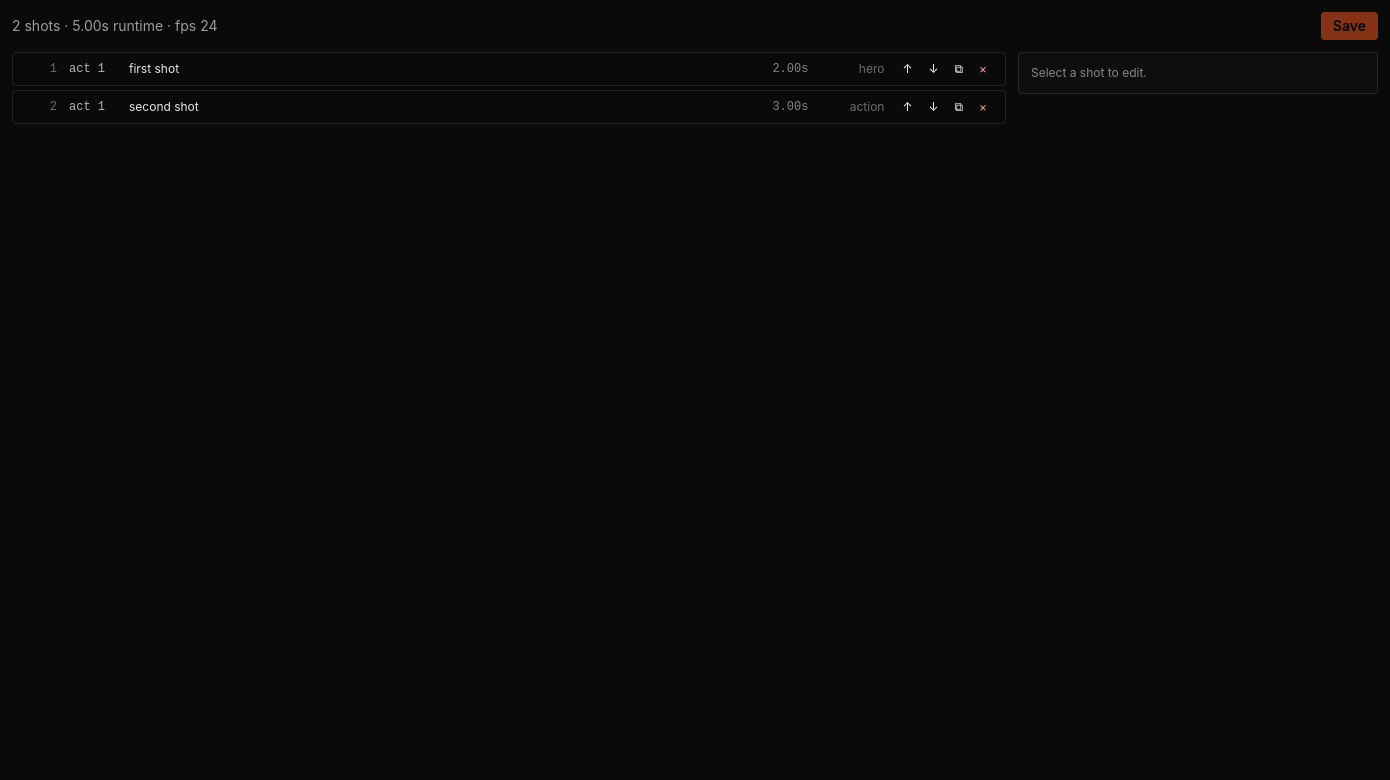
Test case: ShotListEditor › saves via PUT and clears the unsaved-edits badge
Click the text "first shot" at [154, 68], box [129, 61, 179, 76]
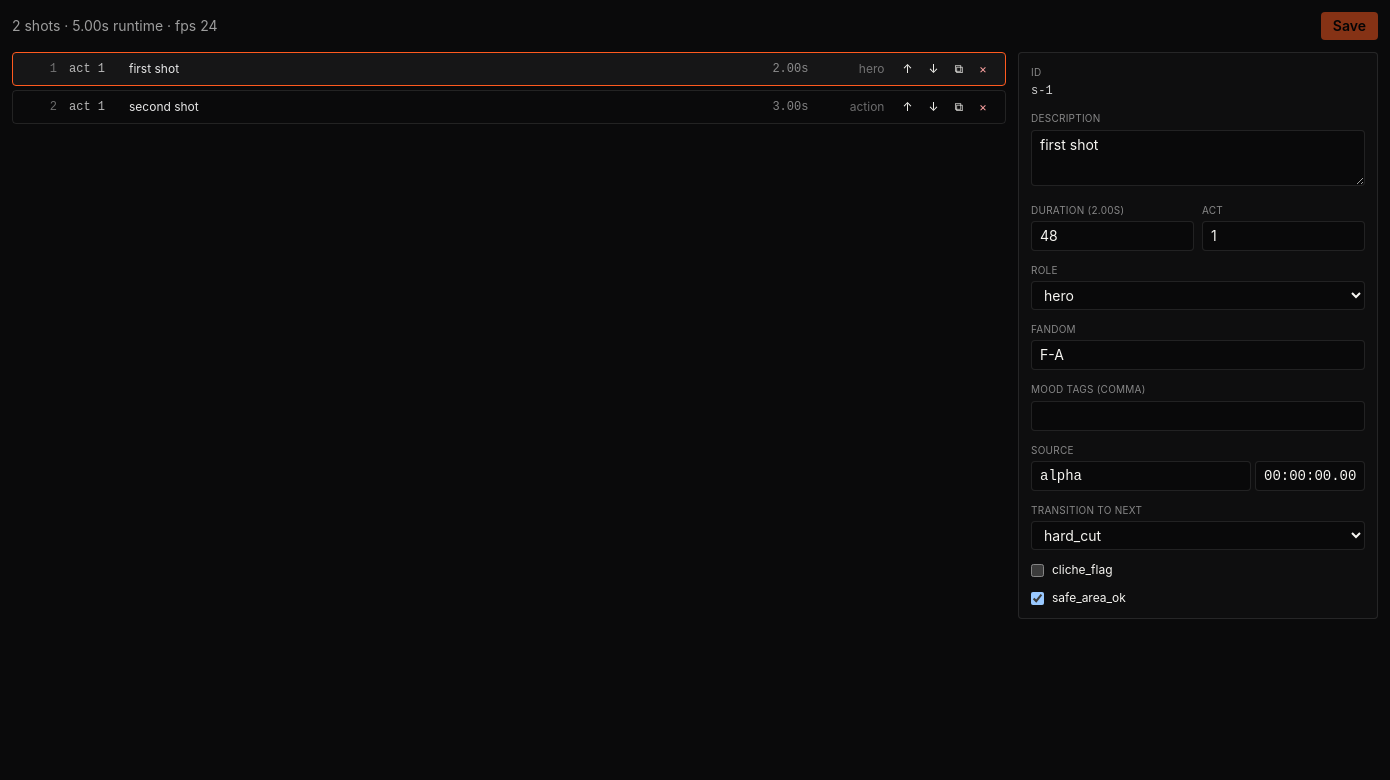
Replace the text in the text box showing "first shot" with "edited" at [1198, 158], box [1031, 130, 1365, 186]
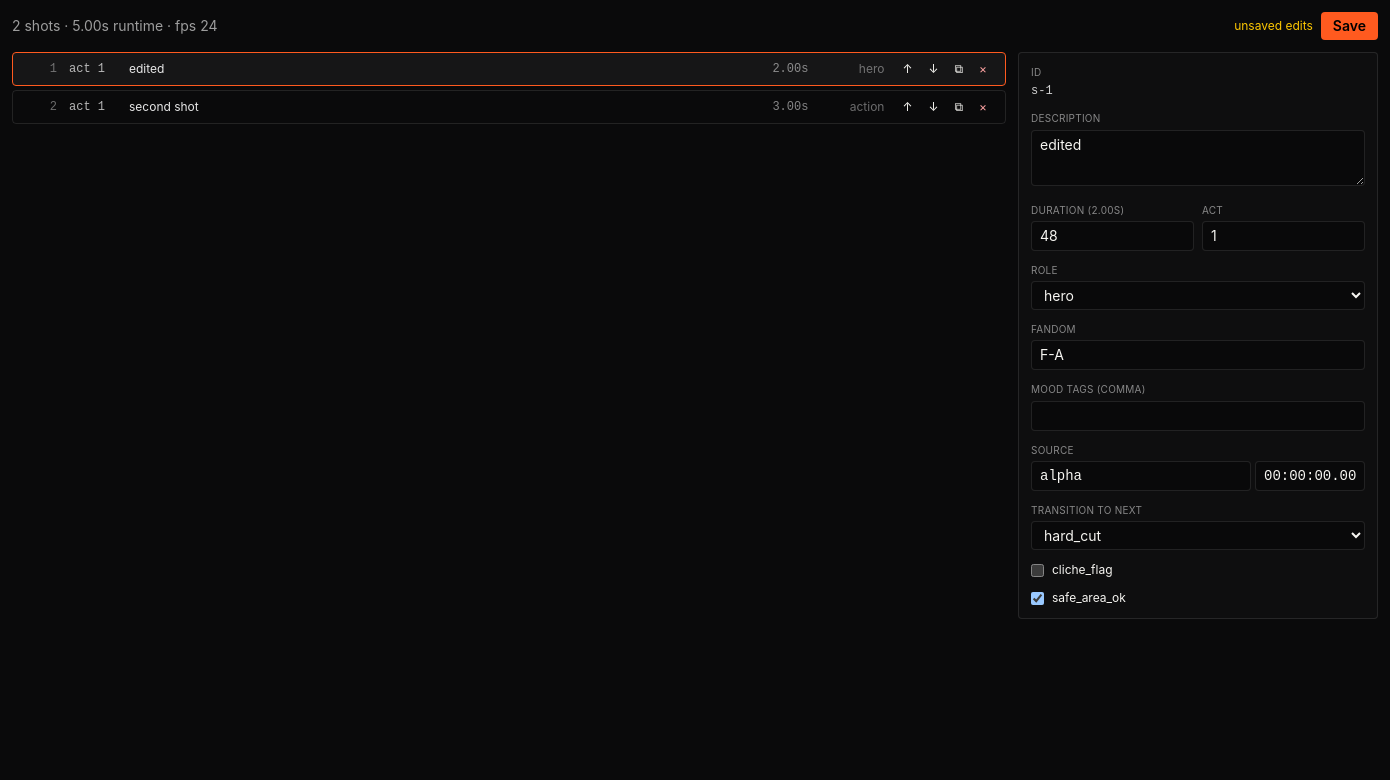
Click the button "Save" at [1349, 26], box [1321, 12, 1378, 40]
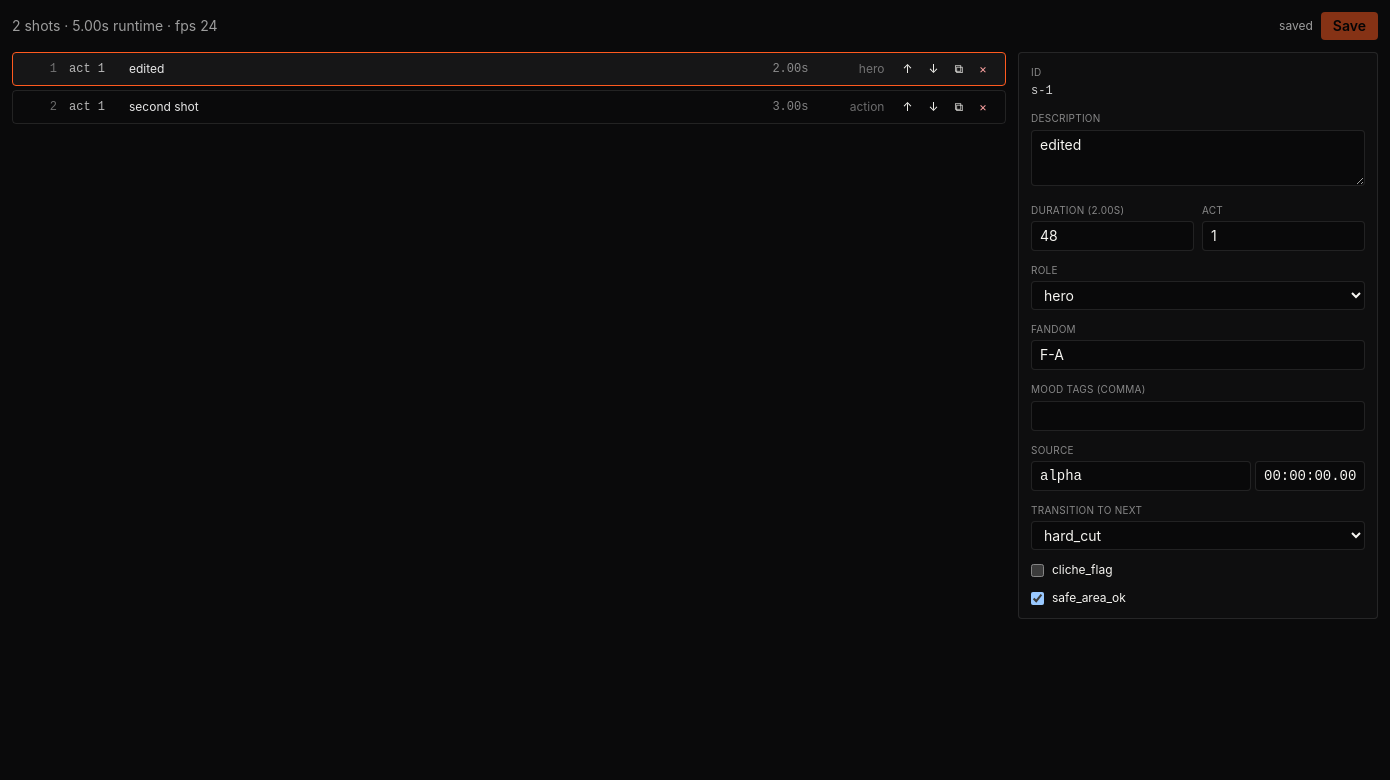
Check: the text "unsaved edits" is gone
